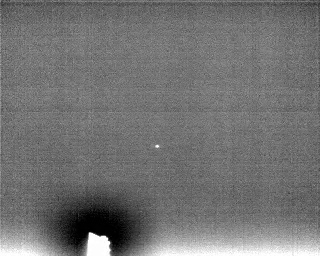BIRD: (153, 141, 163, 153)
